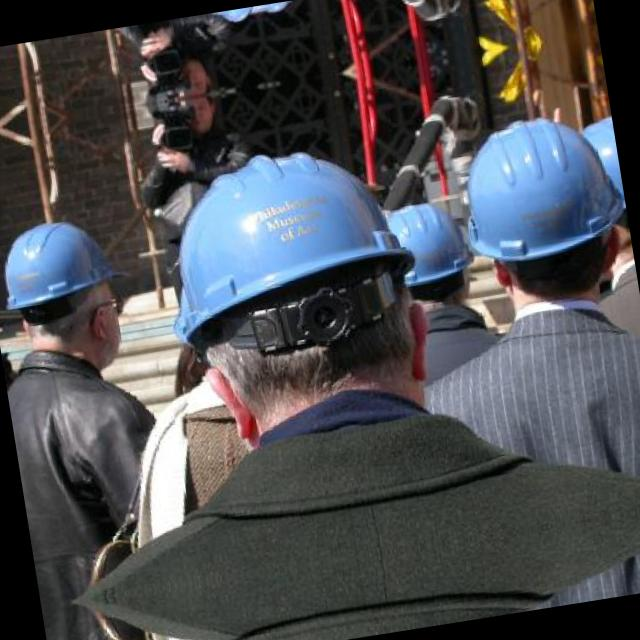helmet: (150, 128, 440, 445), (451, 106, 633, 308), (0, 210, 139, 380), (381, 196, 477, 306)
